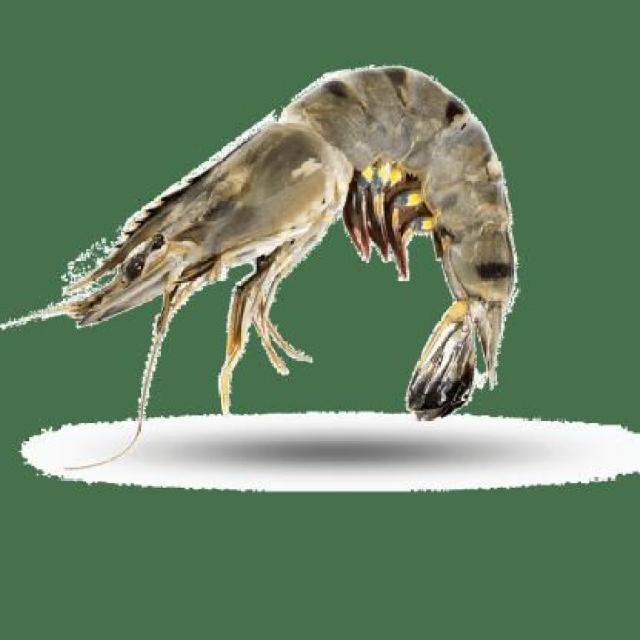shrimp: (56, 57, 530, 436)
